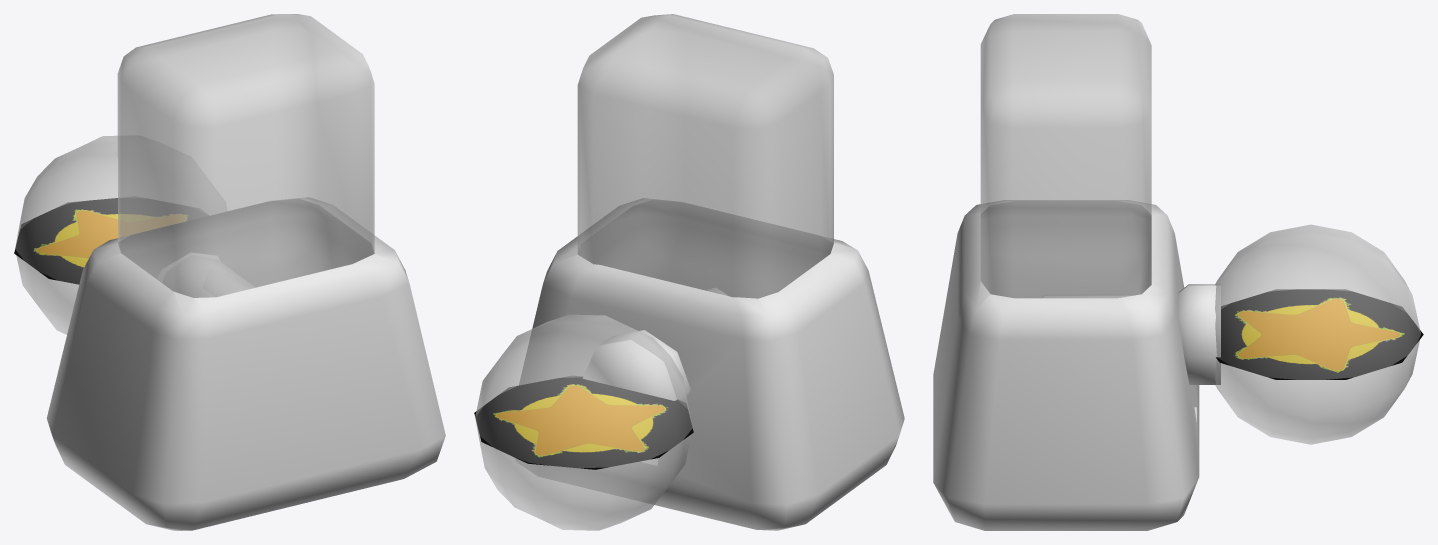
File: StarKey.fbx
3 renders of one model, left to right at view 1: azimuth 30°, elevation 25°; view 2: azimuth 150°, elevation 25°; view 3: azimuth 270°, elevation 25°, orthographic.
Visible parts, largest first — view 1: LockBase, LockStarContainer, KeyStarContainer, Star, KeyBase; view 2: LockBase, LockStarContainer, KeyStarContainer, Star, KeyBase; view 3: LockBase, LockStarContainer, KeyStarContainer, Star, KeyBase.
Part boxes in pixels (box(x1,y1,x2,y2)): LockBase: box(46, 197, 445, 530); LockStarContainer: box(117, 14, 374, 297); KeyStarContainer: box(15, 135, 226, 334); Star: box(14, 198, 207, 284); KeyBase: box(157, 252, 254, 297); LockBase: box(515, 198, 904, 530); LockStarContainer: box(577, 14, 833, 298); KeyStarContainer: box(475, 314, 692, 530); Star: box(474, 376, 693, 469); KeyBase: box(583, 287, 727, 401); LockBase: box(933, 200, 1199, 530); LockStarContainer: box(980, 14, 1151, 298); KeyStarContainer: box(1215, 224, 1420, 444); Star: box(1216, 289, 1423, 379); KeyBase: box(1042, 284, 1220, 384).
Size of the model in its own units: 231 by 304 by 317.
4 materials, 1 textured.
